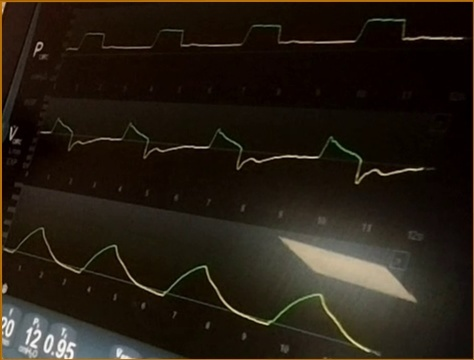Premature_cycling Flow: (39, 114, 421, 187)
Premature_cycling Volume: (4, 226, 370, 349)
